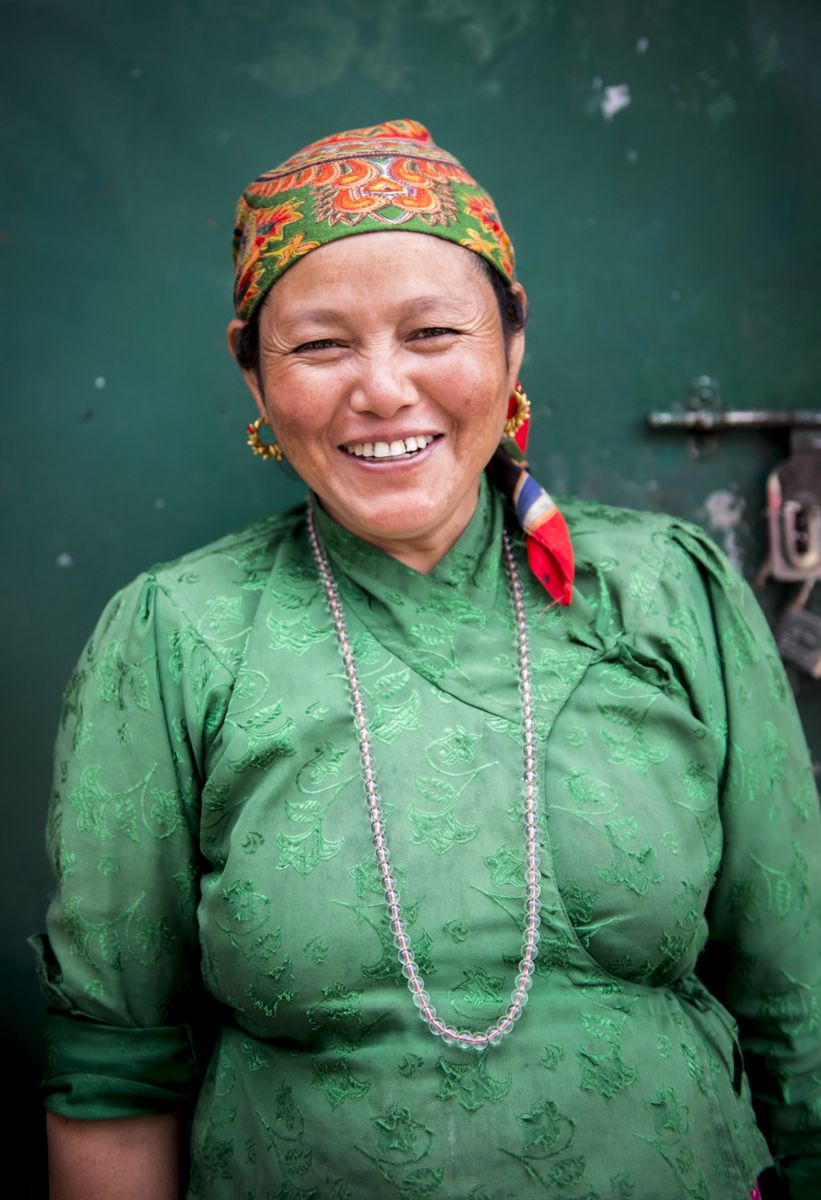human: (26, 107, 821, 1200)
